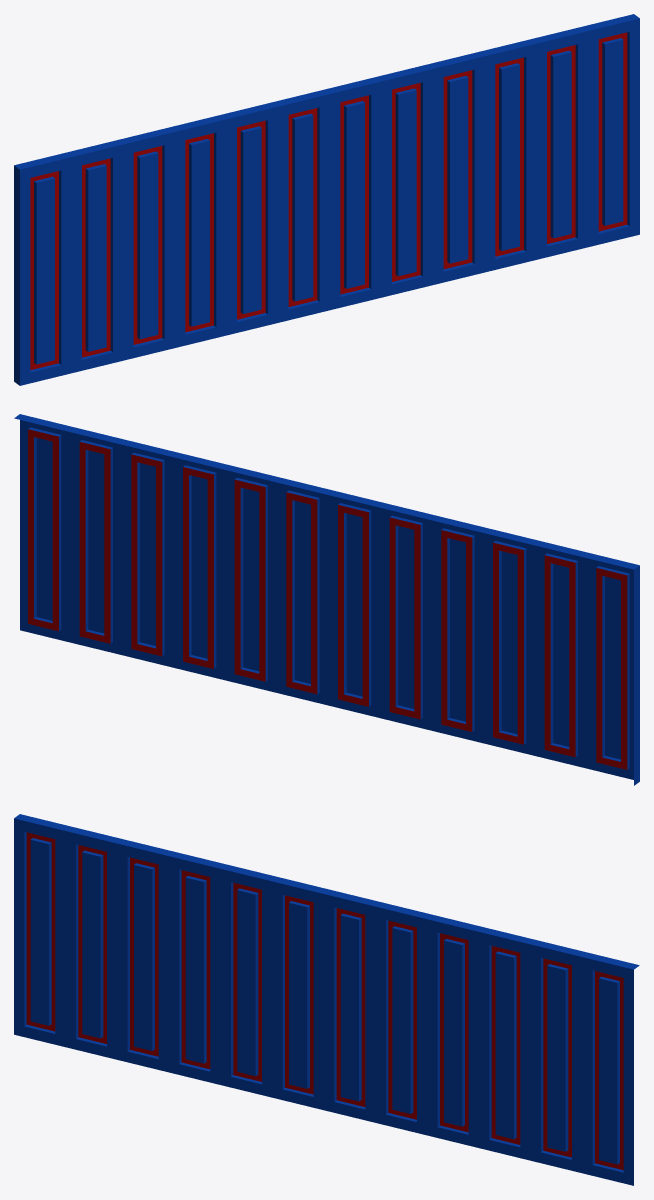
Rendered from WallDetails3M.fbx.
The picture shows the model from 3 angles, top to bottom: view 1: azimuth 30°, elevation 25°; view 2: azimuth 150°, elevation 25°; view 3: azimuth 330°, elevation 25°; orthographic projection.
Visible parts, largest first — view 1: WallDetails3M; view 2: WallDetails3M; view 3: WallDetails3M.
Part boxes in pixels (<box>): WallDetails3M: <box>14,14,639,385</box>; WallDetails3M: <box>14,414,639,785</box>; WallDetails3M: <box>14,814,639,1185</box>.
Size of the model in its own units: 300 by 100 by 5.
